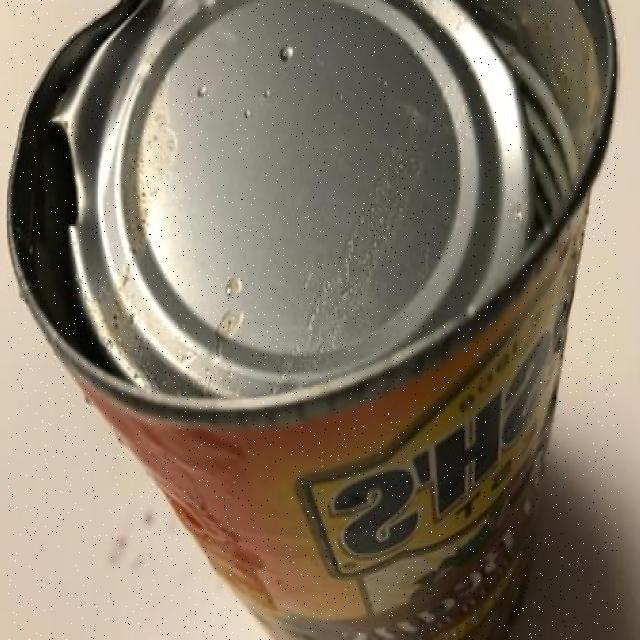metal: (8, 0, 619, 640)
